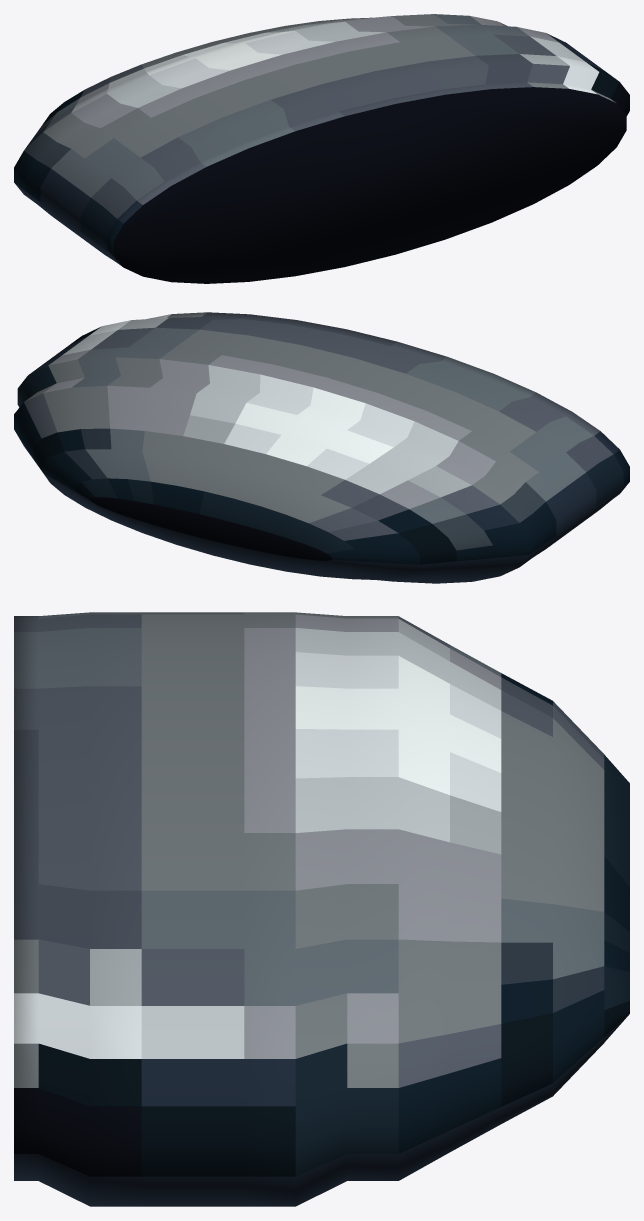
Rendered from newshh-79.glb.
3 views of the same model, one above another, from view 1: azimuth 30°, elevation 25°; view 2: azimuth 150°, elevation 25°; view 3: azimuth 270°, elevation 25° (orthographic). The views are drawn at different scales.
Parts seen in each view (by area): view 1: newshh-79; view 2: newshh-79; view 3: newshh-79.
Boxes of the visible parts, <box> form: newshh-79: <box>14,14,629,283</box>; newshh-79: <box>14,312,629,583</box>; newshh-79: <box>14,612,629,1206</box>.
Size of the model in its own units: 1.93 by 0.5573 by 0.9983.
